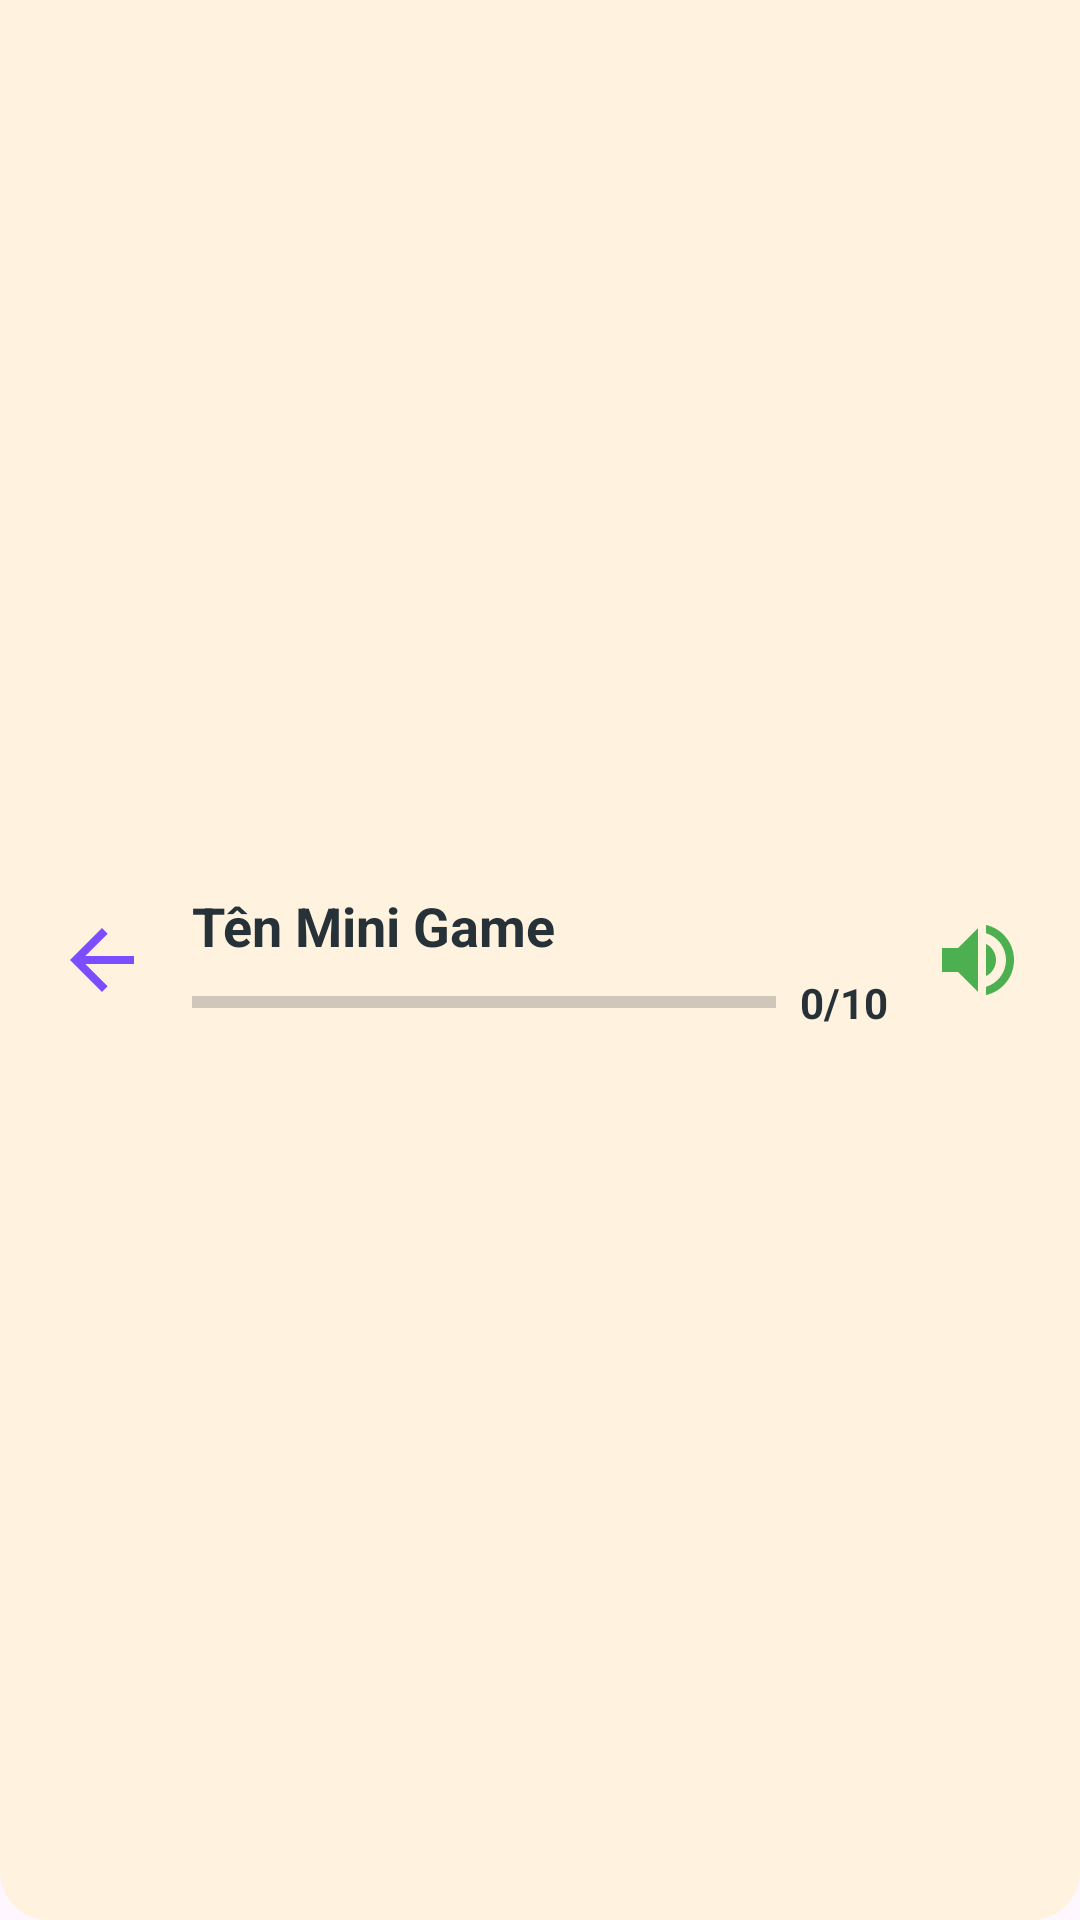

Where to tap for icons on this 1080x1920 app screen, as point (x, y):
Quay lại: point (102, 960)
Âm thanh: point (978, 960)
